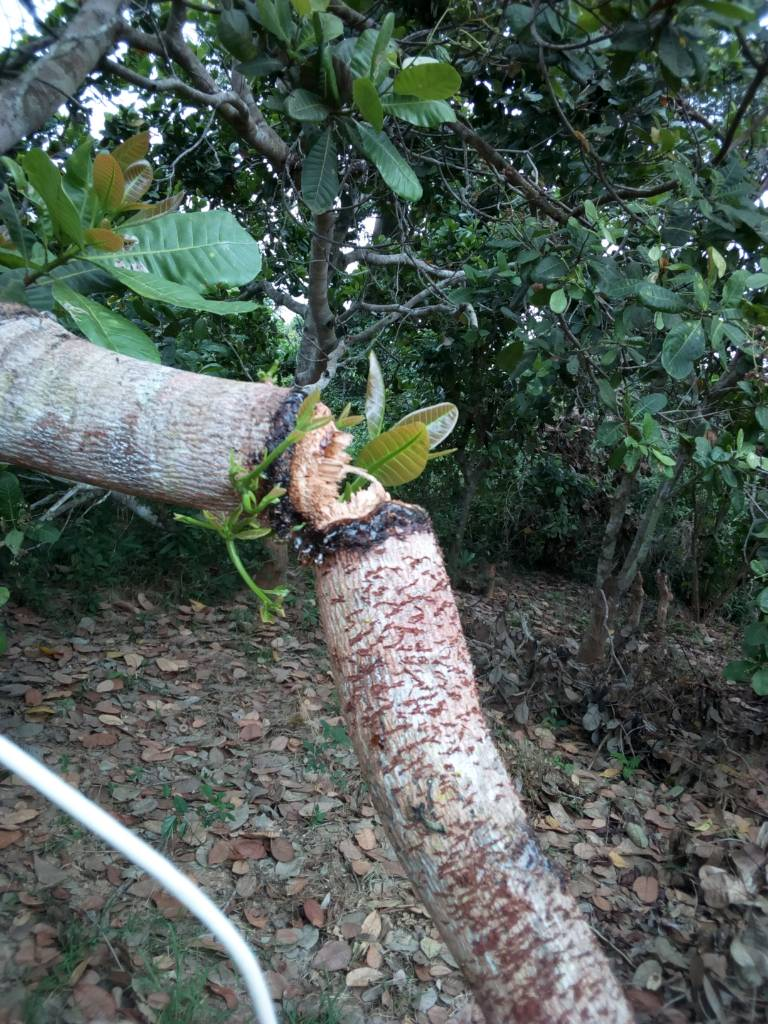Analepse trifasciata: (188, 353, 446, 600)
